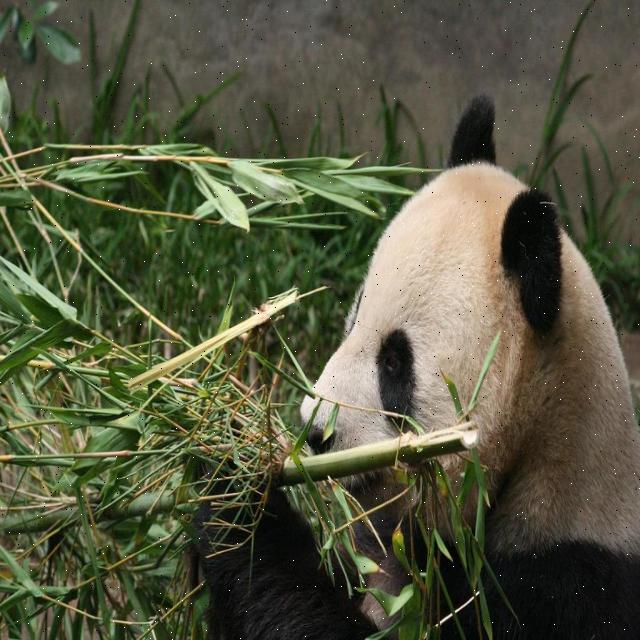panda: (197, 90, 639, 639)
